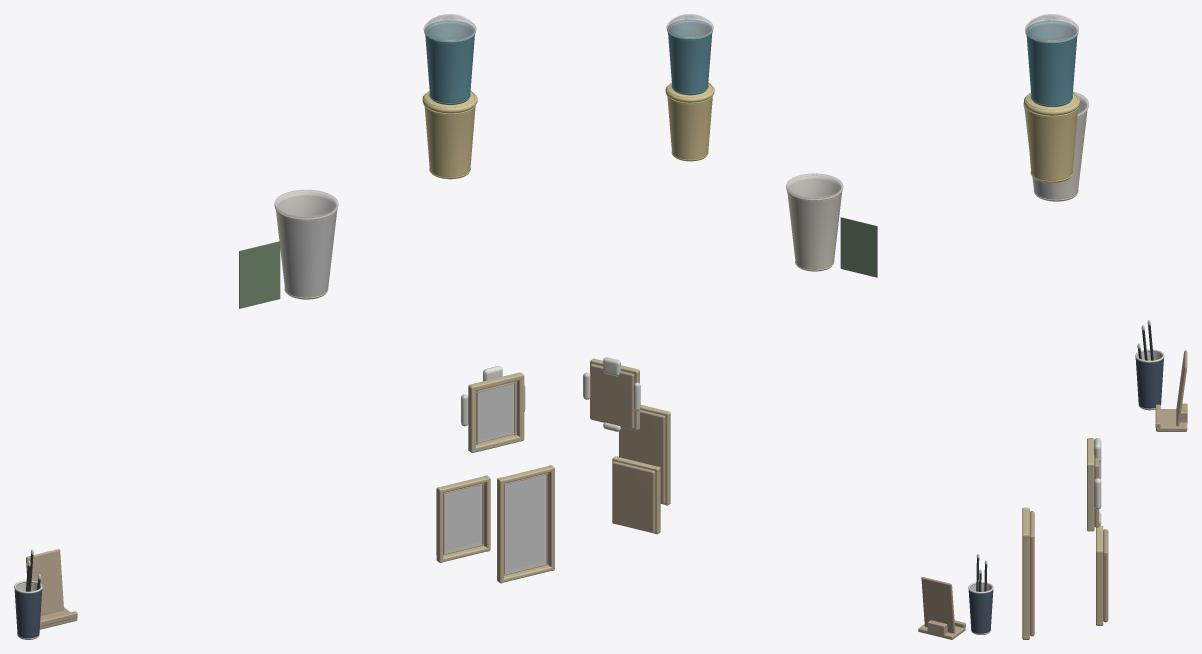
The model's file is desk-keepsakes.glb.
3 renders of one model, left to right at view 1: azimuth 30°, elevation 25°; view 2: azimuth 150°, elevation 25°; view 3: azimuth 270°, elevation 25°, orthographic. The views are drawn at different scales.
Visible parts, largest first — view 1: RightFramesRoot | optically clear frame glazing, RightFramesRoot | original photograph surface regions, RightFramesRoot | pale gold frame edging, LuckinBigFishCup | Big Fish sea blue printed base, Cover Cat real collage on curved wall, TastienGanganCup | Tastien warm yellow polypropylene, BUV physical card backing, LeftPaleWoodPenStand | light wood frame, LuckinCatCup | Cover Cat pale neutral cup back, LuckinCatCupLid | clear polypropylene cup lip, RightFramesRoot | matte inner frame paper, RightFramesRoot | light wood frame (+2 smaller); view 2: RightFramesRoot | light wood frame, LuckinCatCup | Cover Cat pale neutral cup back, LuckinBigFishCup | Big Fish sea blue printed base, TastienGanganCup | Tastien warm yellow polypropylene, BUV physical card backing, LeftPaleWoodPenStand | light wood frame, RightFramesRoot | pale gold frame edging, LuckinCatCupLid | clear polypropylene cup lip, LeftBlueWhitePenCupHollowBody, LuckinBigFishCupLid | clear polypropylene cup lip, RightFramesRoot | warm white plastic; view 3: LuckinBigFishCup | Big Fish sea blue printed base, TastienGanganCup | Tastien warm yellow polypropylene, RightFramesRoot | pale gold frame edging, RightFramesRoot | light wood frame, LuckinCatCup | Cover Cat pale neutral cup back, LuckinBigFishCupLid | clear polypropylene cup lip, LeftBlueWhitePenCupHollowBody, LeftPaleWoodPenStand | light wood frame, TastienGanganCupLid | Tastien warm yellow polypropylene, RightFramesRoot | warm white plastic, Cover Cat real collage on curved wall, DeskSmallObjectsRoot | aged ivory ceramic (+1 smaller).
Part boxes in pixels (box(x1,y1,x2,y2)): RightFramesRoot | optically clear frame glazing: box(445, 382, 546, 573); RightFramesRoot | original photograph surface regions: box(445, 384, 543, 570); RightFramesRoot | pale gold frame edging: box(436, 372, 554, 583); LuckinBigFishCup | Big Fish sea blue printed base: box(424, 20, 475, 104); Cover Cat real collage on curved wall: box(282, 210, 337, 296); TastienGanganCup | Tastien warm yellow polypropylene: box(424, 105, 475, 179); BUV physical card backing: box(239, 241, 280, 308); LeftPaleWoodPenStand | light wood frame: box(26, 549, 77, 629); LuckinCatCup | Cover Cat pale neutral cup back: box(275, 192, 337, 299); LuckinCatCupLid | clear polypropylene cup lip: box(274, 190, 338, 218); RightFramesRoot | matte inner frame paper: box(444, 381, 546, 573); RightFramesRoot | light wood frame: box(436, 381, 548, 575); RightFramesRoot | light wood frame: box(590, 364, 665, 533); LuckinCatCup | Cover Cat pale neutral cup back: box(786, 175, 842, 271); LuckinBigFishCup | Big Fish sea blue printed base: box(667, 19, 712, 95); TastienGanganCup | Tastien warm yellow polypropylene: box(667, 95, 713, 161); BUV physical card backing: box(840, 217, 877, 277); LeftPaleWoodPenStand | light wood frame: box(918, 577, 965, 639); RightFramesRoot | pale gold frame edging: box(590, 358, 670, 534); LuckinCatCupLid | clear polypropylene cup lip: box(786, 173, 843, 199); LeftBlueWhitePenCupHollowBody: box(968, 590, 993, 634); LuckinBigFishCupLid | clear polypropylene cup lip: box(666, 14, 713, 38); RightFramesRoot | warm white plastic: box(583, 357, 640, 431); LuckinBigFishCup | Big Fish sea blue printed base: box(1025, 20, 1078, 106); TastienGanganCup | Tastien warm yellow polypropylene: box(1025, 107, 1078, 182); RightFramesRoot | pale gold frame edging: box(1022, 438, 1103, 639); RightFramesRoot | light wood frame: box(1030, 458, 1108, 636); LuckinCatCup | Cover Cat pale neutral cup back: box(1024, 95, 1088, 201); LuckinBigFishCupLid | clear polypropylene cup lip: box(1025, 14, 1078, 41); LeftBlueWhitePenCupHollowBody: box(1135, 358, 1163, 410); LeftPaleWoodPenStand | light wood frame: box(1155, 350, 1187, 431); TastienGanganCupLid | Tastien warm yellow polypropylene: box(1024, 92, 1079, 115); RightFramesRoot | warm white plastic: box(1094, 438, 1101, 526); Cover Cat real collage on curved wall: box(1024, 110, 1052, 198); DeskSmallObjectsRoot | aged ivory ceramic: box(1135, 349, 1164, 409).
Bounding box in the file's own units: 2.56 × 2.85 × 0.7415.
